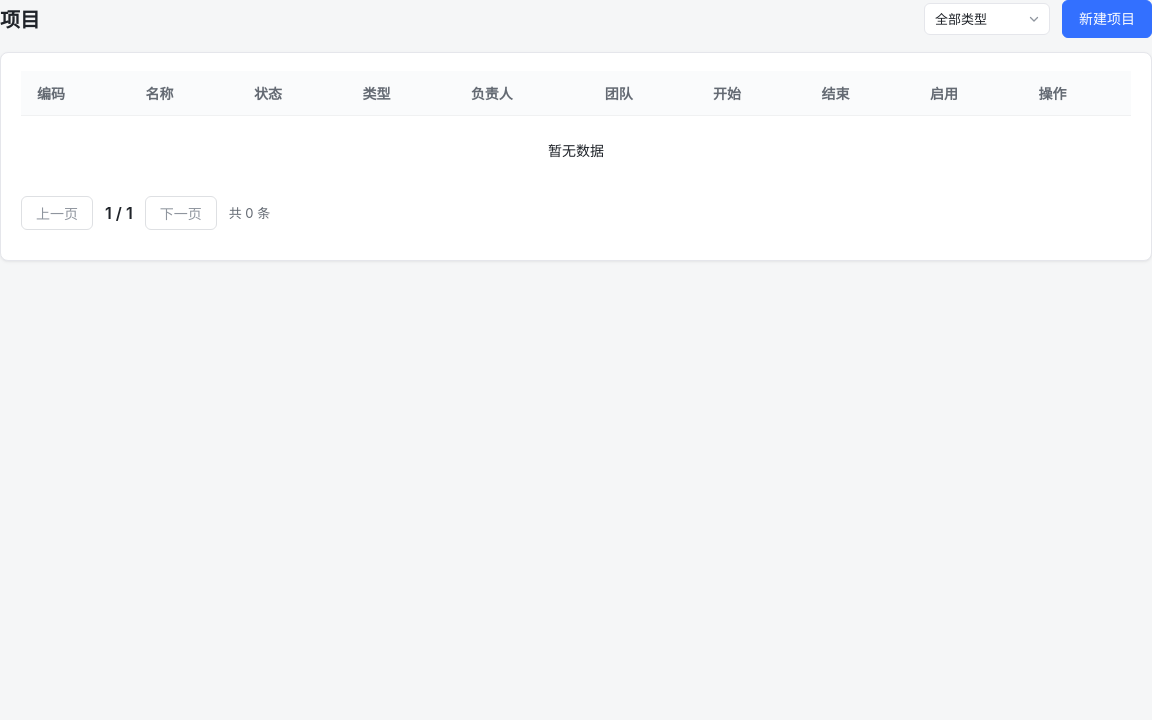
Test case: ProjectsPage › defaults owner select to the current logged-in user (TC-FES-P03)
This screenshot has width=1152, height=720.
Click the button with test id "projects-new-btn". click: (1107, 19)
box: [1062, 0, 1151, 38]
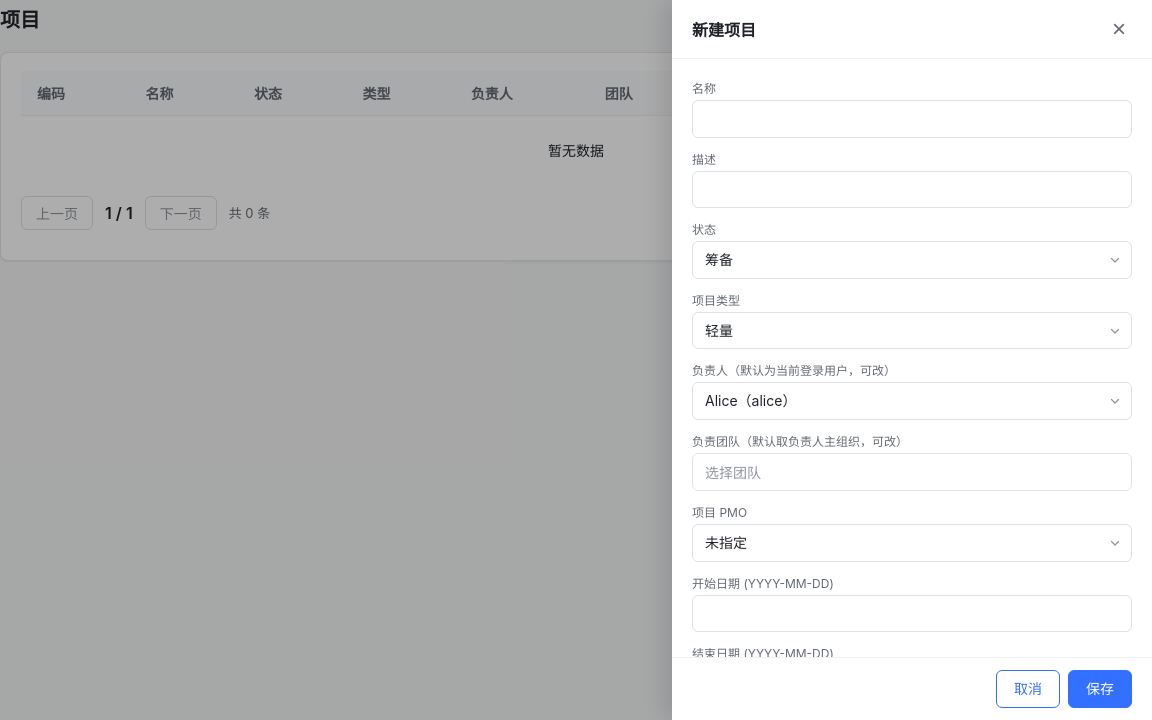
Expected: the dropdown with test id "projects-owner-select" shows "Alice（alice）", [692, 382, 1132, 420]
